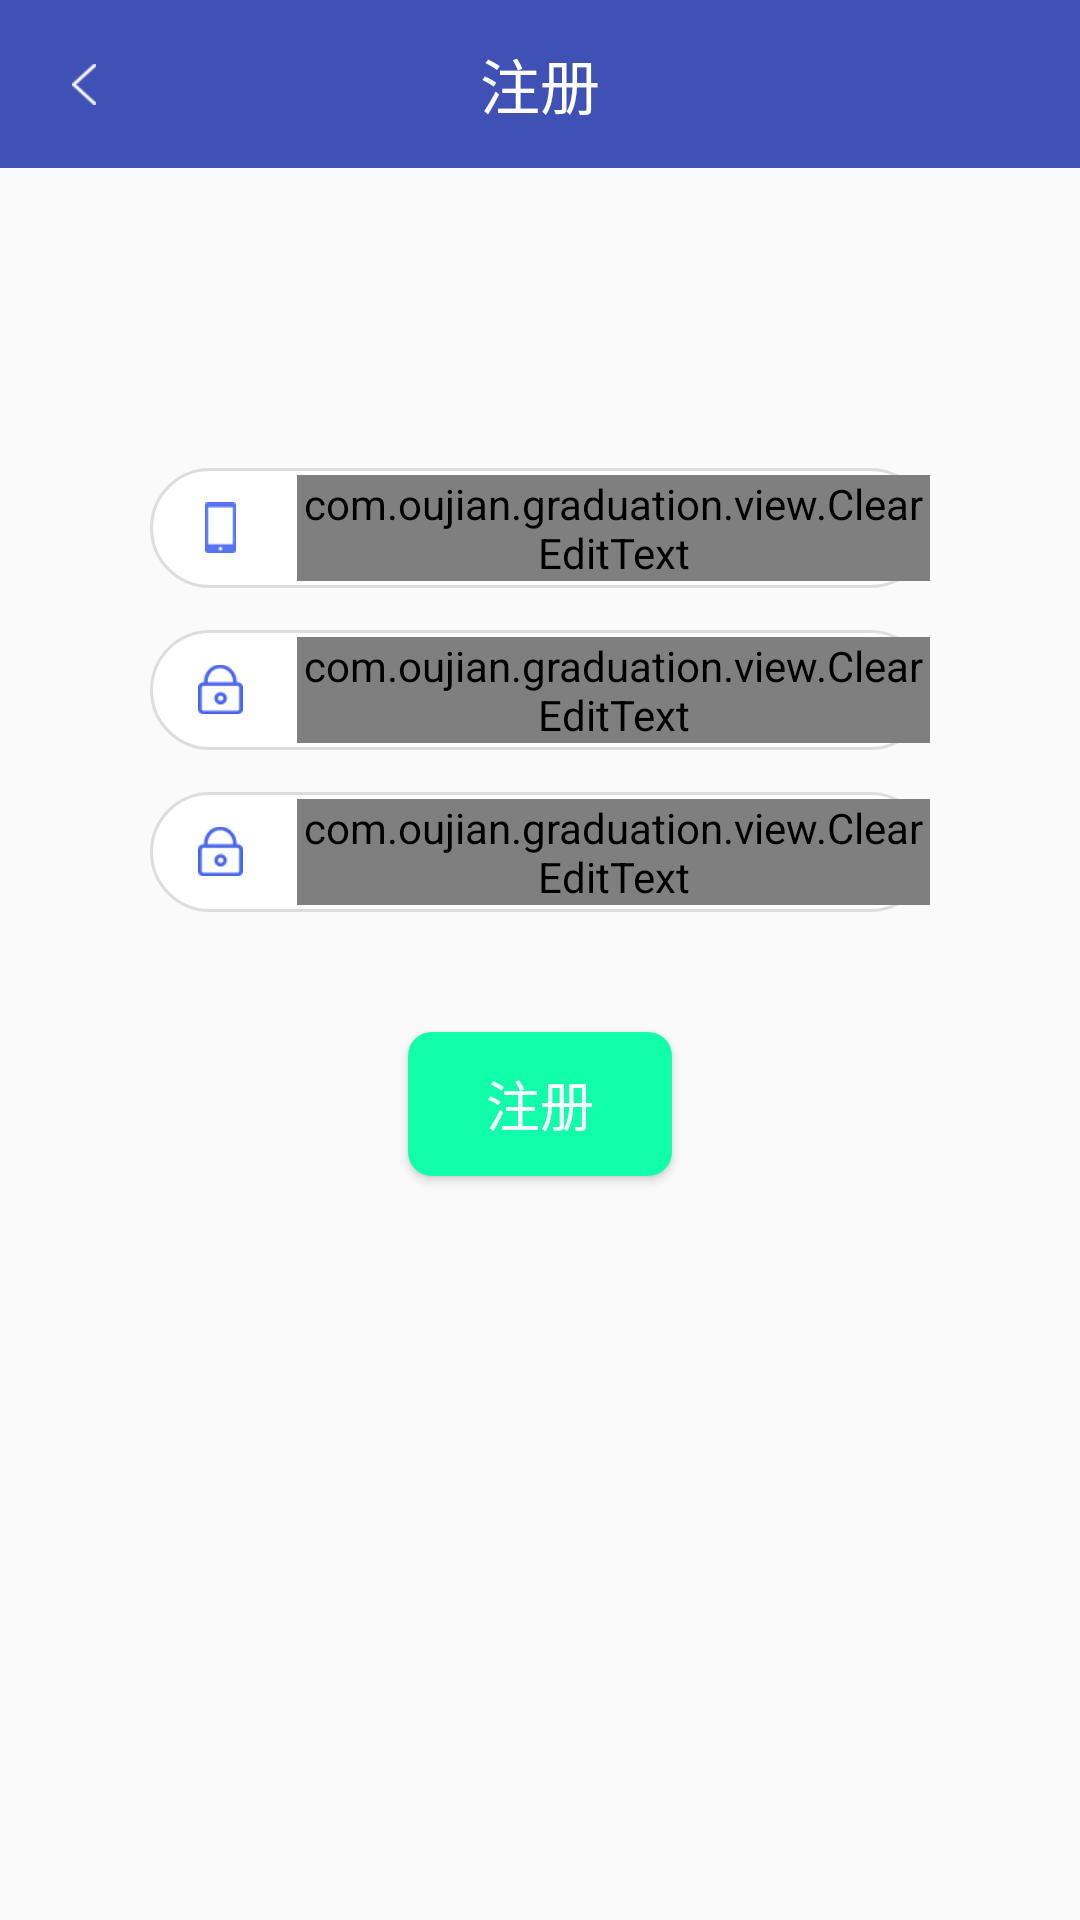

Locate icon controls on the screen. Image size 1080px x 1920px, boxes as (x1, y1, x2, y2).
password: (198, 665, 243, 714), (198, 827, 243, 876)
phone: (205, 502, 236, 553)
